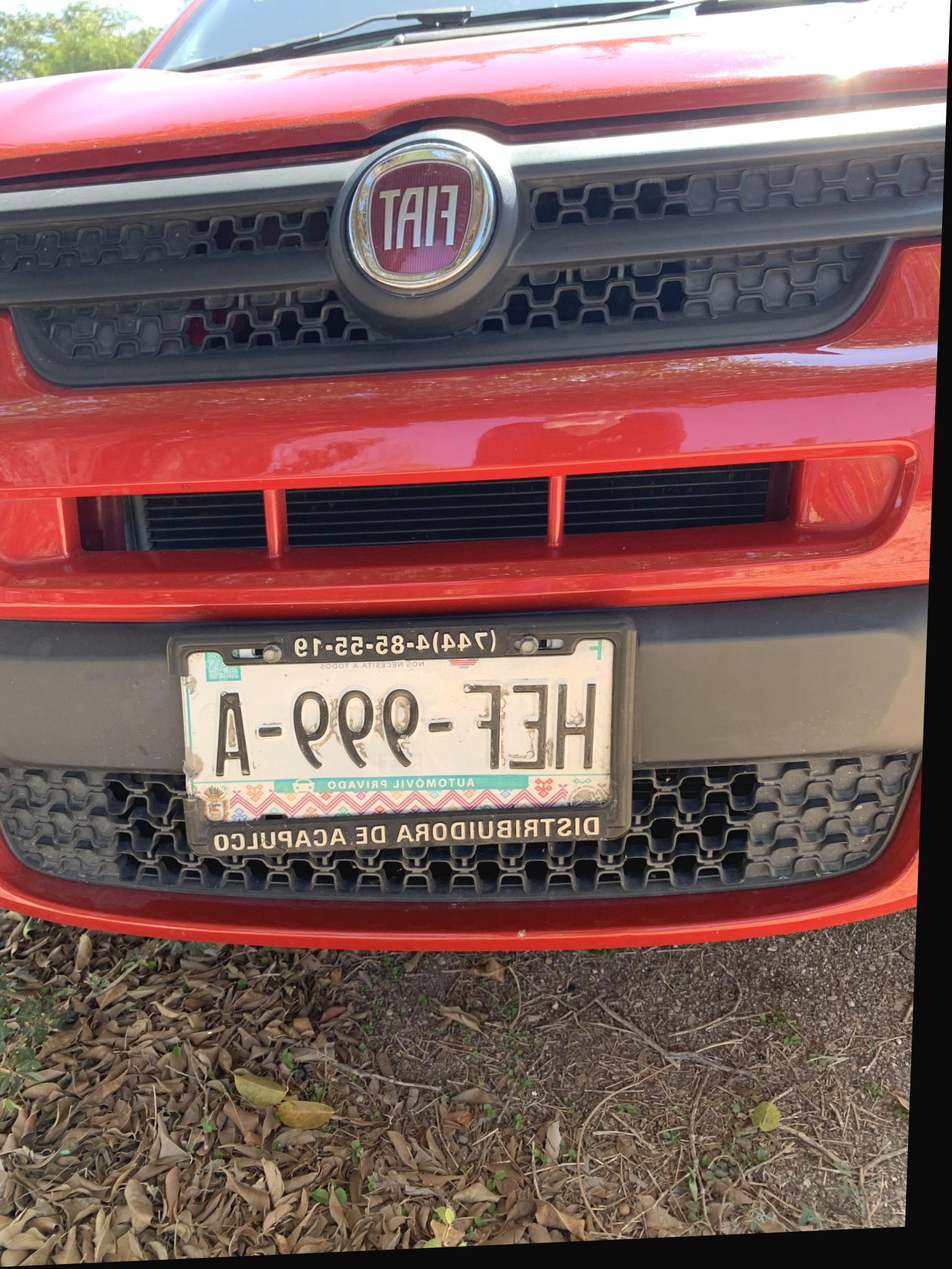License_Plate: (155, 593, 653, 879)
